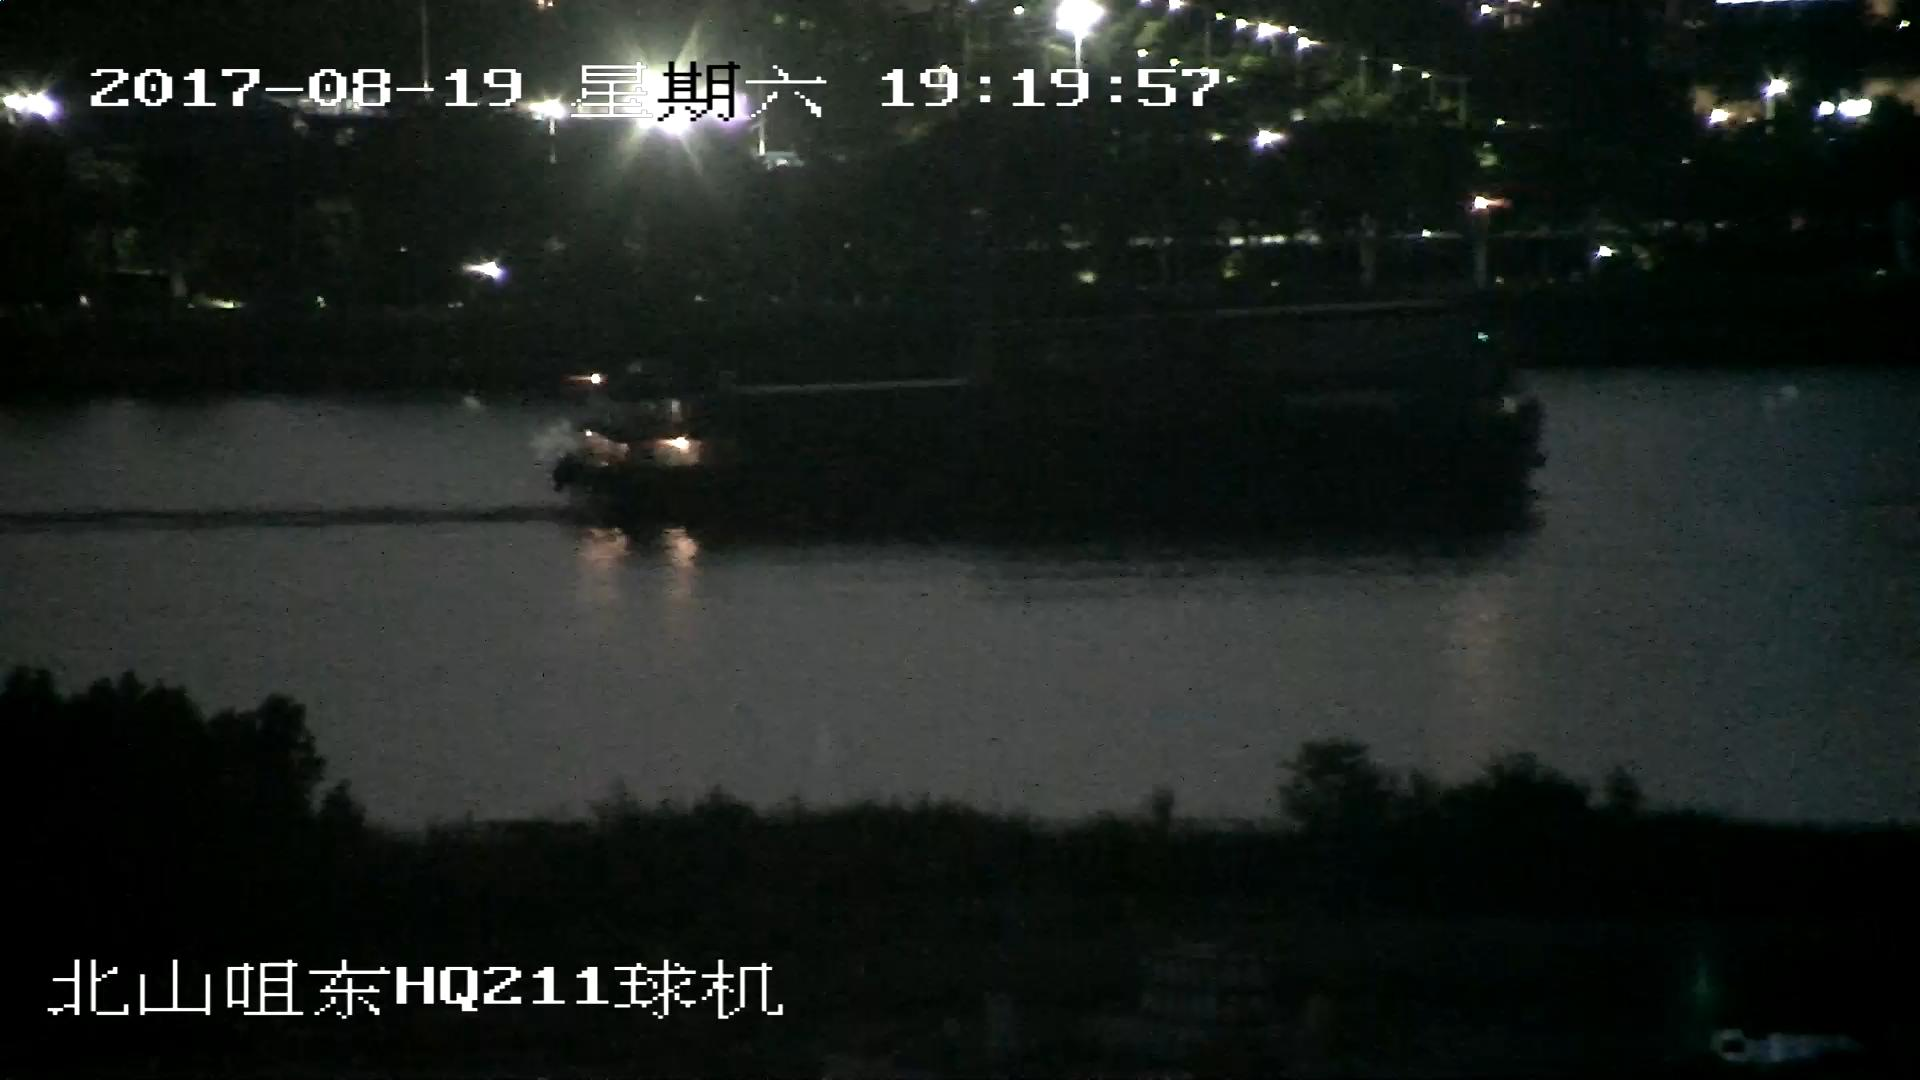container ship: (570, 312, 1553, 537)
